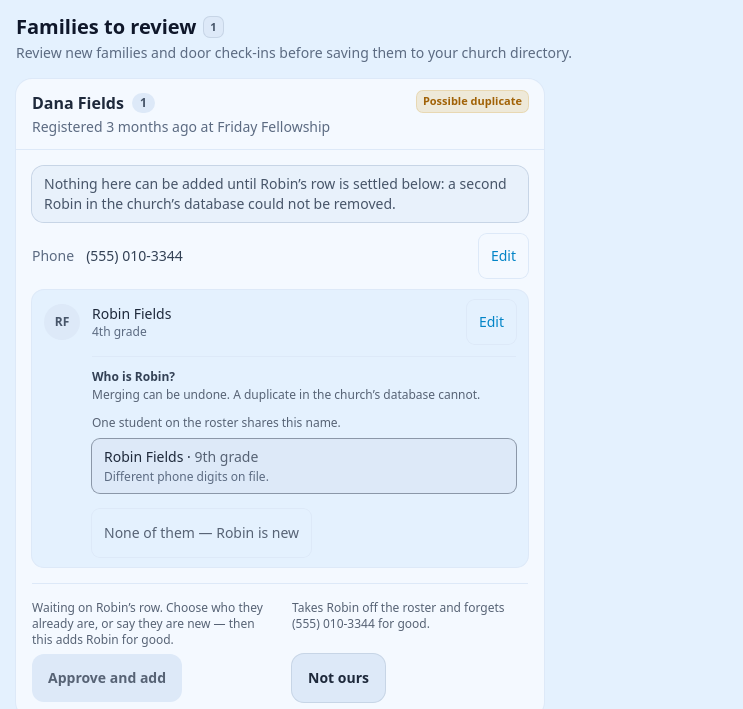
Test: a name that already exists › will not approve while the collision is unresolved
This screenshot has width=743, height=709.
Expected: the button "Approve and add" is disabled, [32, 654, 182, 702]
Expected: the text "Waiting on Robin’s row" is shown, [32, 599, 263, 648]
Step 1. Click the button "None of them — Robin is new" → (202, 533), box [92, 509, 311, 557]
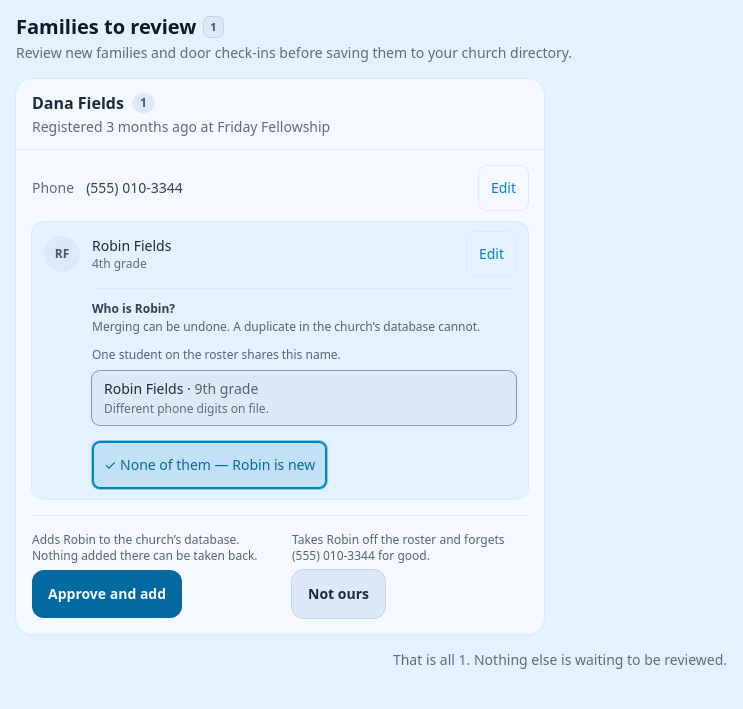
Expected: the button "Approve and add" is enabled, [32, 570, 182, 618]
